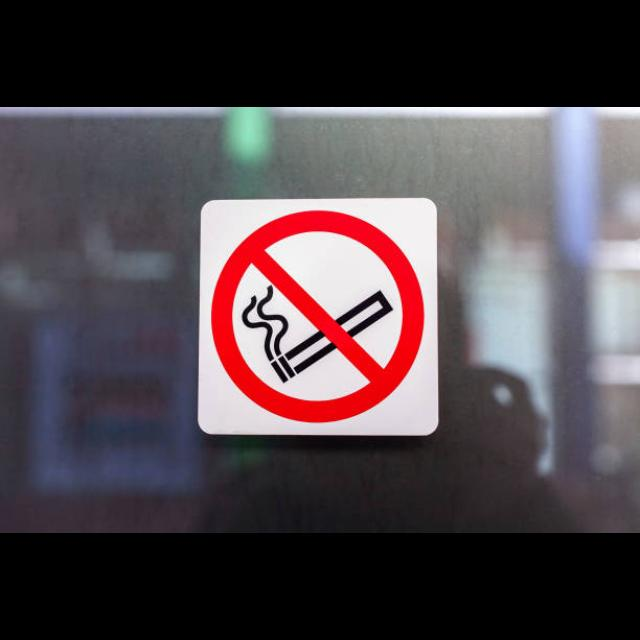cam hut thuoc: (197, 198, 436, 435)
